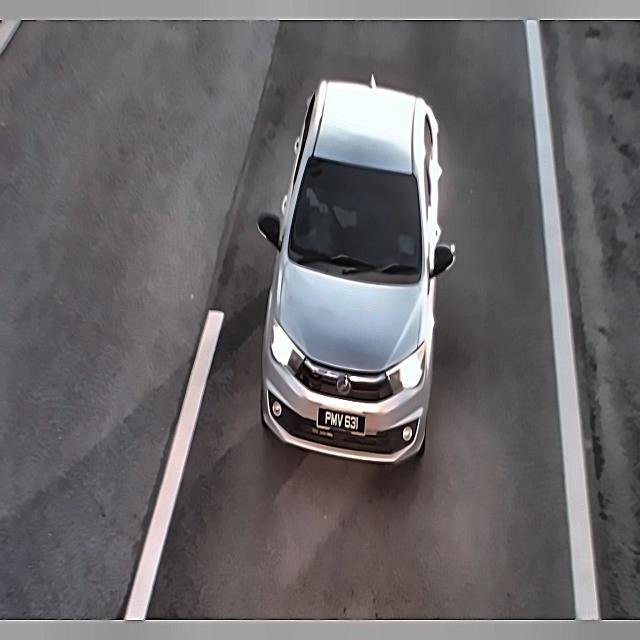car: (312, 398, 373, 440)
